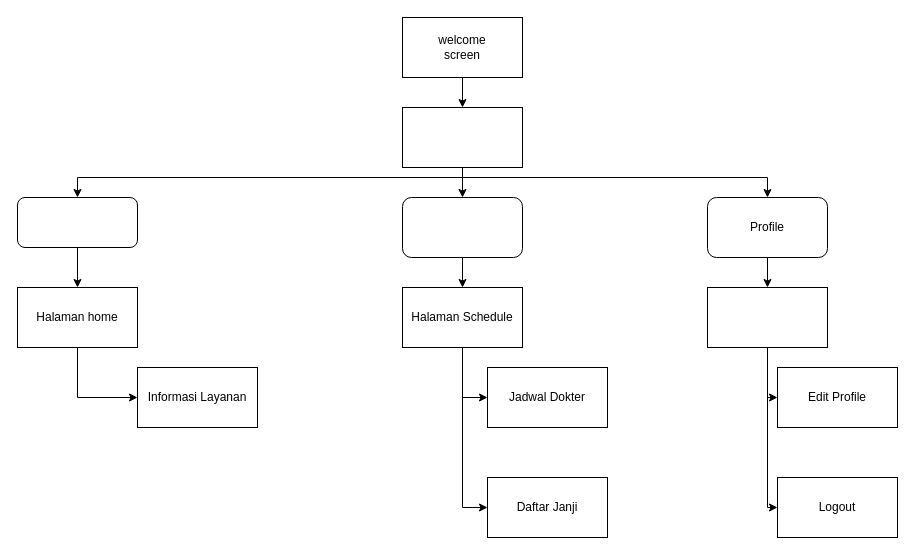
This 915x555 diagram has some shape labels left out. Each missing label, with the centre of its shape:
Halaman Profile: the point at 767,317
Home: the point at 77,222
Login Page: the point at 462,137
Schedule: the point at 462,227
